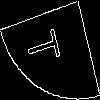T: (25, 24, 69, 67)
